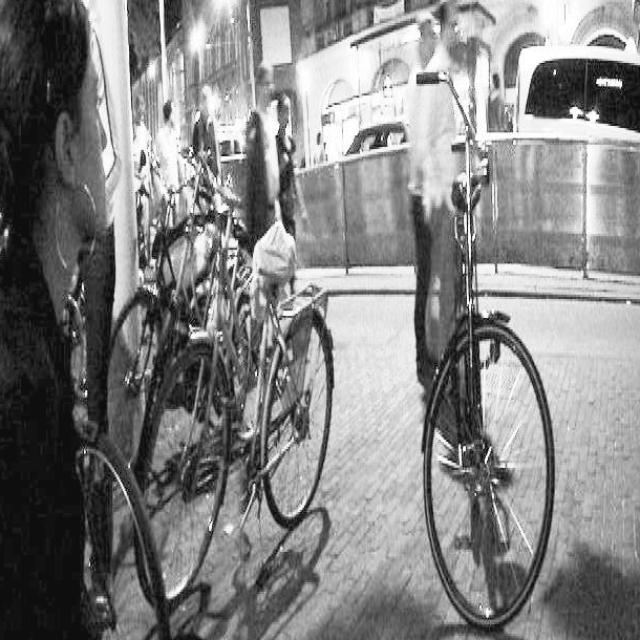Bicycle: (91, 271, 345, 596), (22, 119, 237, 398), (402, 284, 564, 582)
